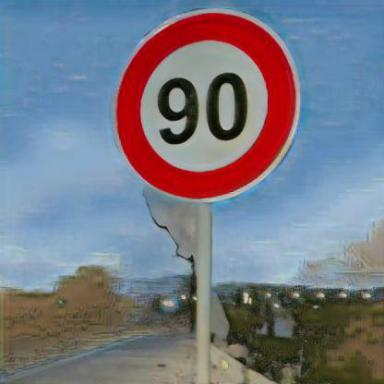Speed_limit_90: (116, 12, 297, 197)
